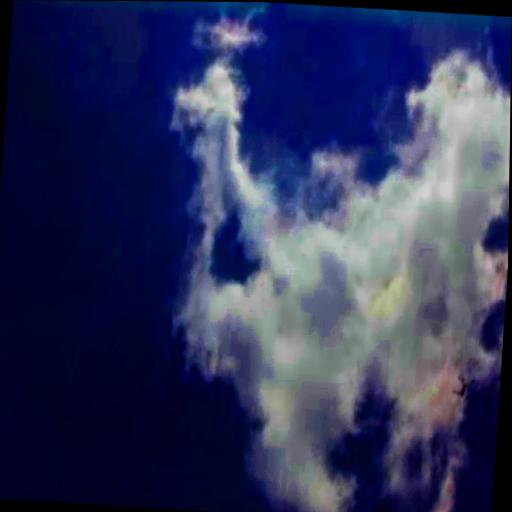drones: (451, 368, 476, 408)
